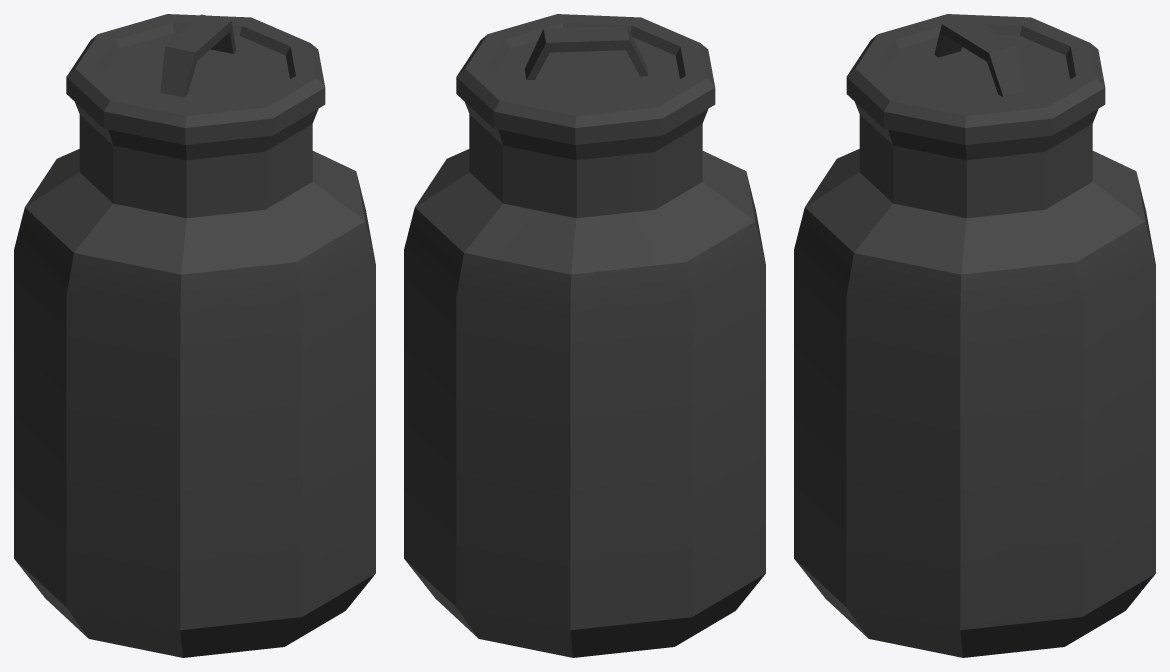
File: milktank_a002.glb
3 views of the same model, side by side, from view 1: azimuth 30°, elevation 25°; view 2: azimuth 150°, elevation 25°; view 3: azimuth 270°, elevation 25° (orthographic).
Visible parts, largest first — view 1: milktank_a002; view 2: milktank_a002; view 3: milktank_a002.
Boxes of the visible parts, x1=… form: milktank_a002: x1=14, y1=14, x2=375, y2=657; milktank_a002: x1=404, y1=14, x2=765, y2=657; milktank_a002: x1=794, y1=14, x2=1155, y2=657.
Size of the model in its own units: 0.4349 by 0.7408 by 0.4341.
Materials: 1 (1 with a texture image).
